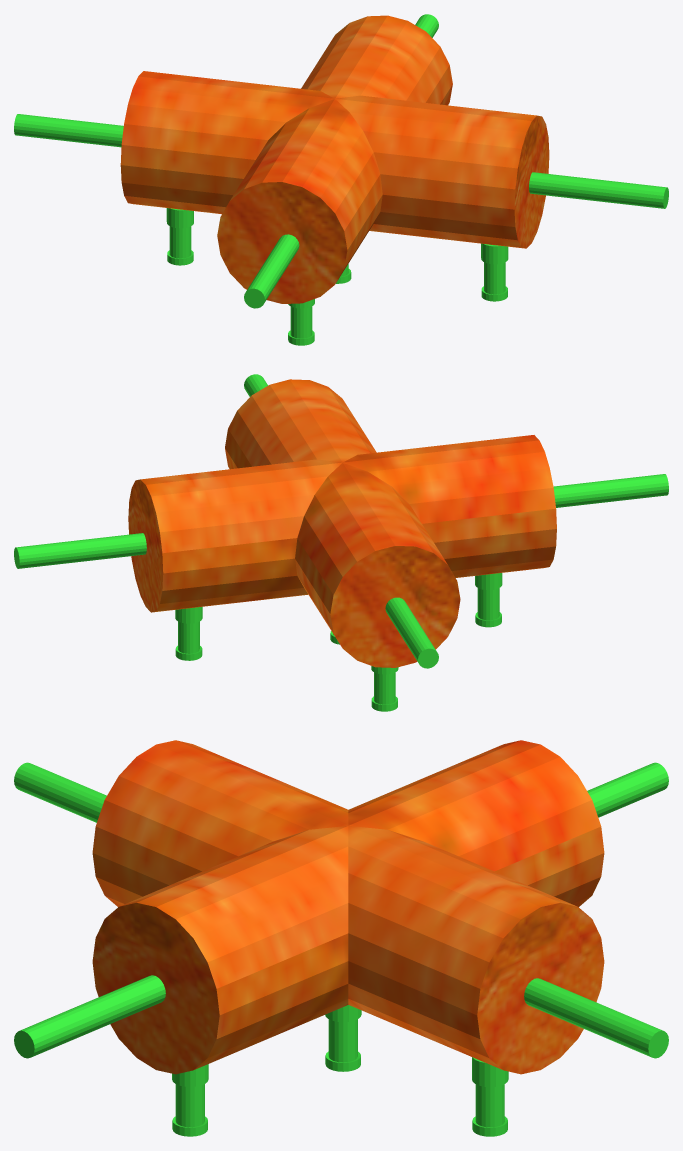
File: NuclearFactory_stage0.fbx
The picture shows the model from 3 angles, top to bottom: view 1: azimuth 30°, elevation 25°; view 2: azimuth 150°, elevation 25°; view 3: azimuth 270°, elevation 25°; orthographic projection. The views are drawn at different scales.
Visible parts, largest first — view 1: polySurface88; view 2: polySurface88; view 3: polySurface88.
Boxes of the visible parts, x1,y1,x2,y2 form: polySurface88: (14, 14, 668, 345); polySurface88: (14, 374, 668, 711); polySurface88: (14, 740, 668, 1136).
Bounding box in the file's own units: 33.18 × 13.3 × 33.18.
2 materials, 2 textured.
